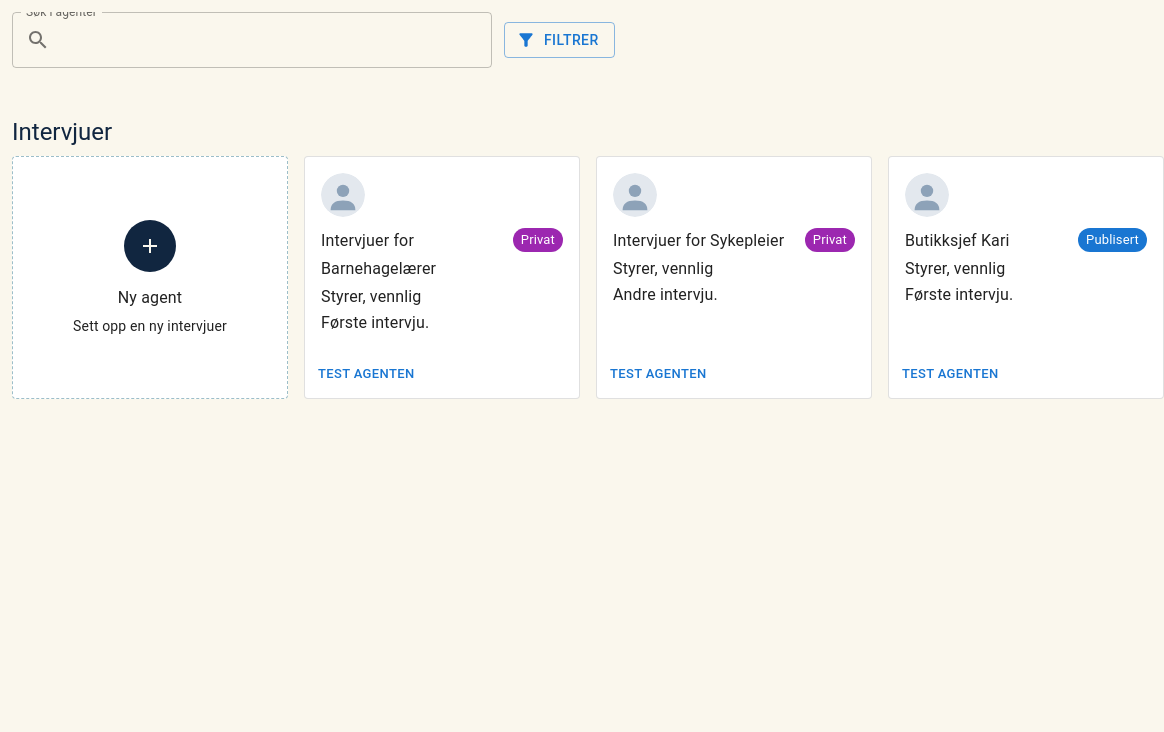
Scenario: AgentList › filters › resets every filter with one button
Click the button "Filtrer" at (559, 40), box [504, 22, 614, 58]
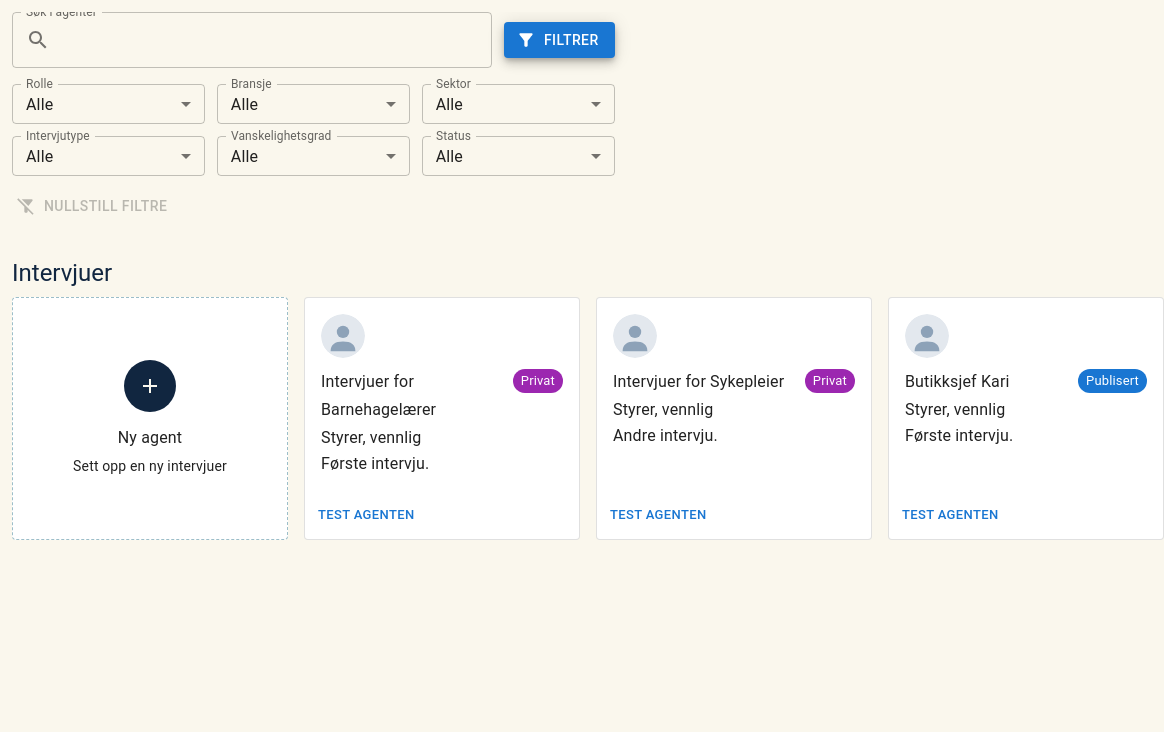
expect the button "Nullstill filtre" is disabled: met, box [12, 188, 175, 224]
Click the dropdown named "Sektor" at (449, 104), box [436, 94, 463, 114]
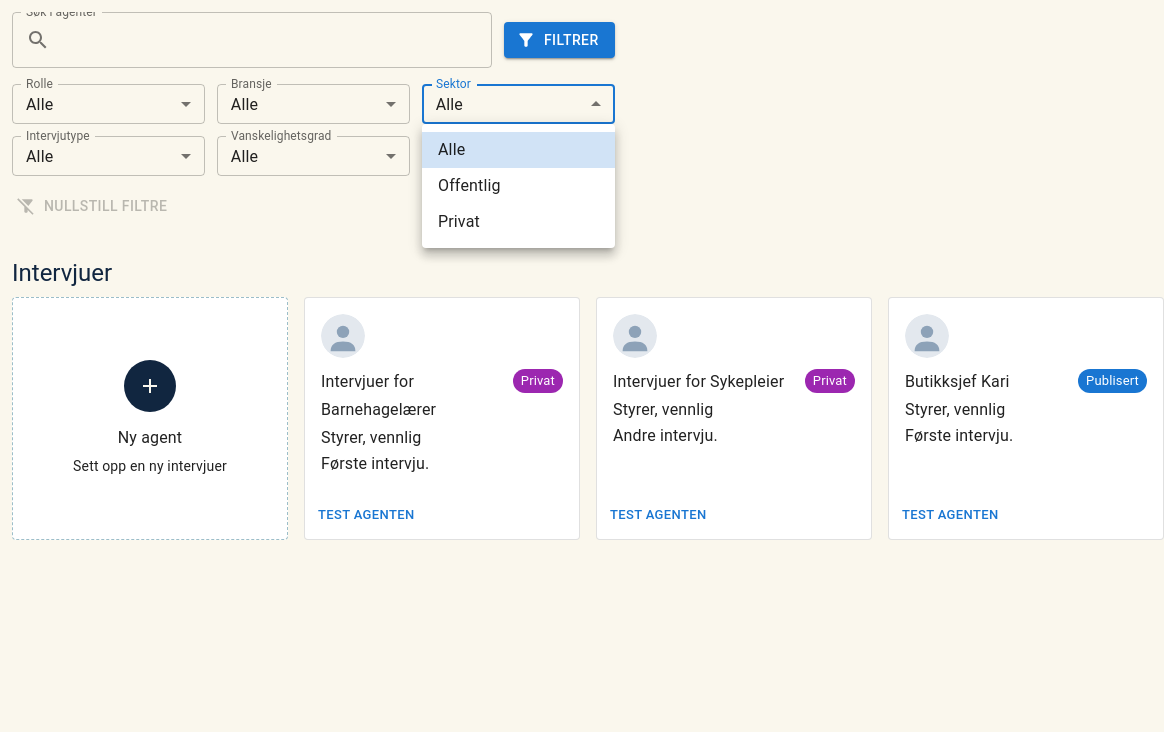
Click the option "Privat" at (459, 222), box [438, 212, 480, 231]
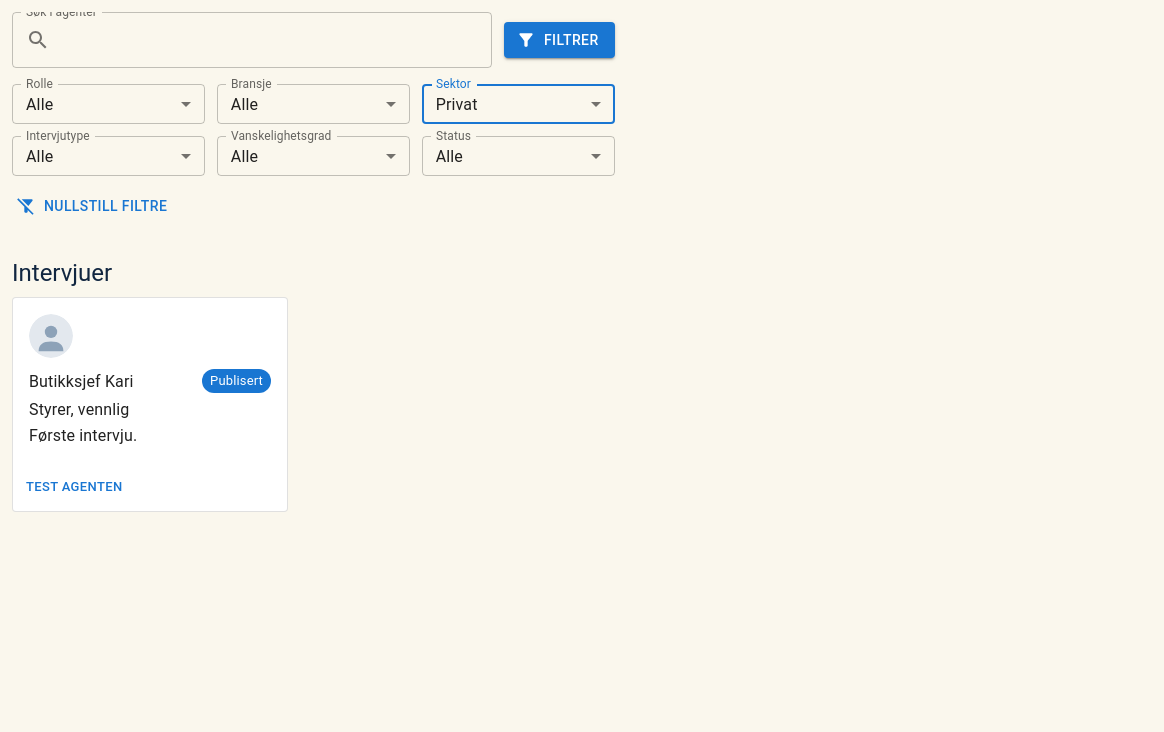
Click the dropdown named "Intervjutype" at (40, 156), box [26, 146, 53, 166]
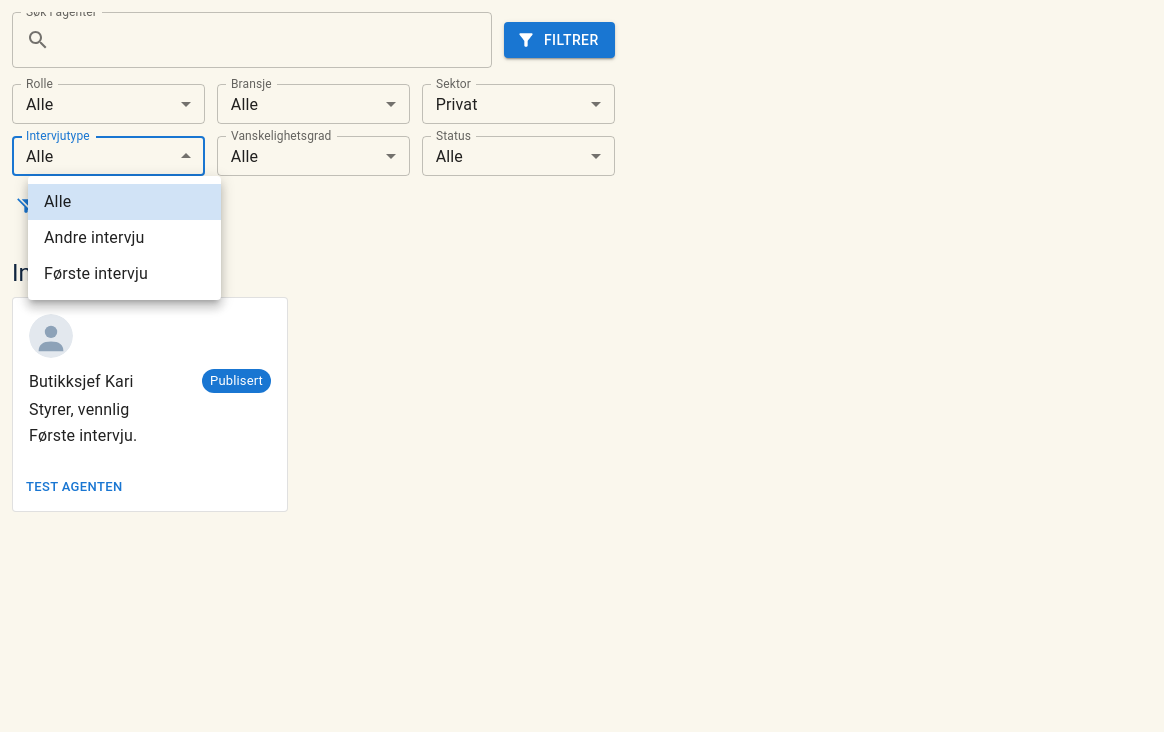
Click the option "Første intervju" at (96, 274), box [44, 264, 148, 283]
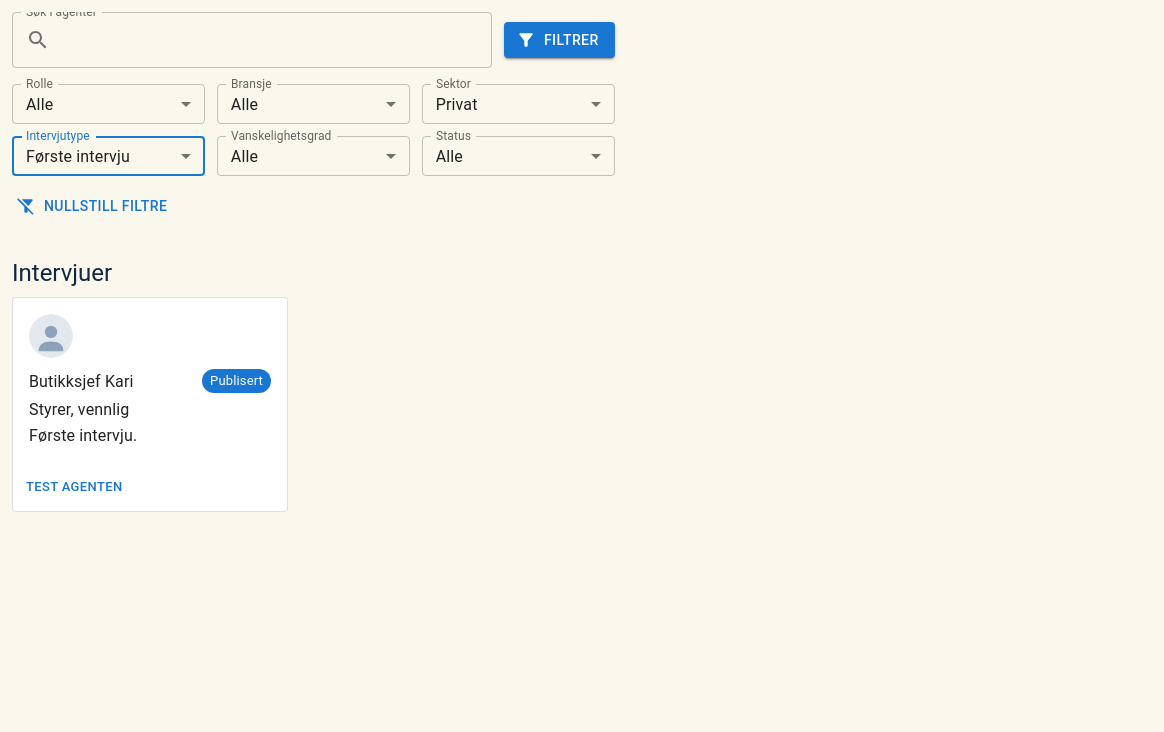
Click the button "Nullstill filtre" at (94, 206), box [12, 188, 175, 224]
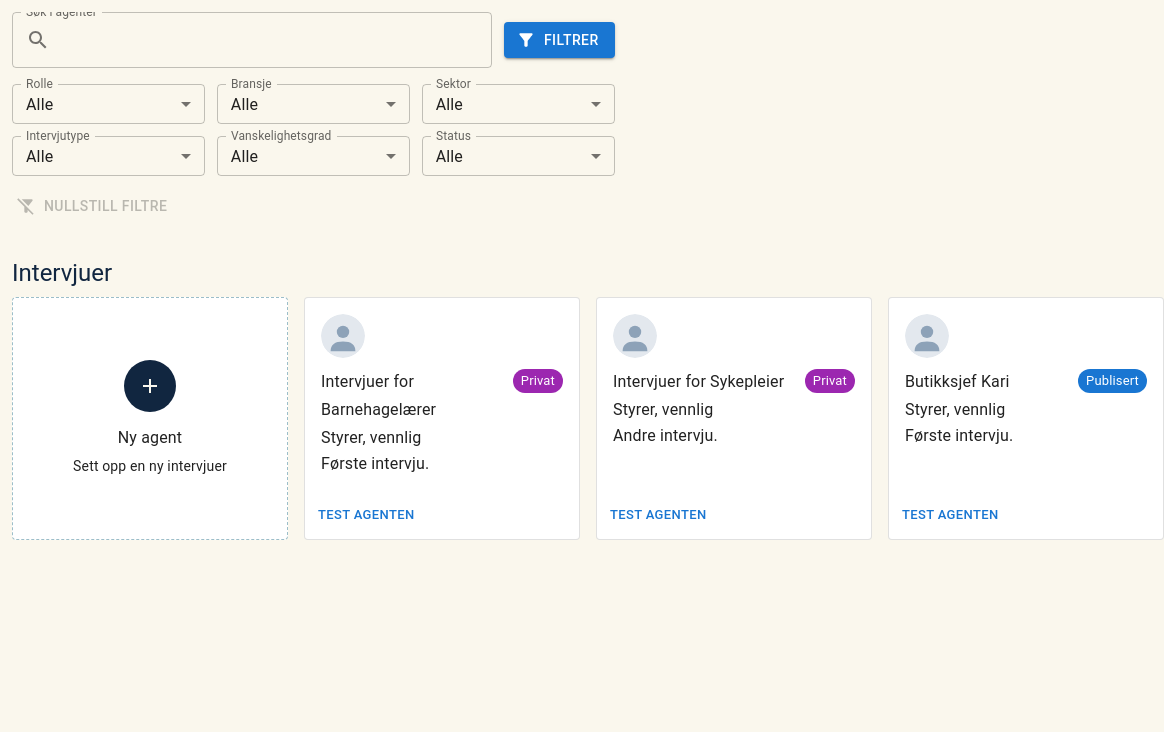
expect the button "Nullstill filtre" is disabled: met, box [12, 188, 175, 224]
expect the dropdown named "Sektor" reads "Alle": met, box [436, 94, 463, 114]
